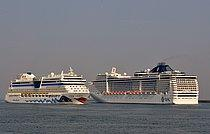Ship: (87, 61, 203, 109), (4, 66, 94, 108)
